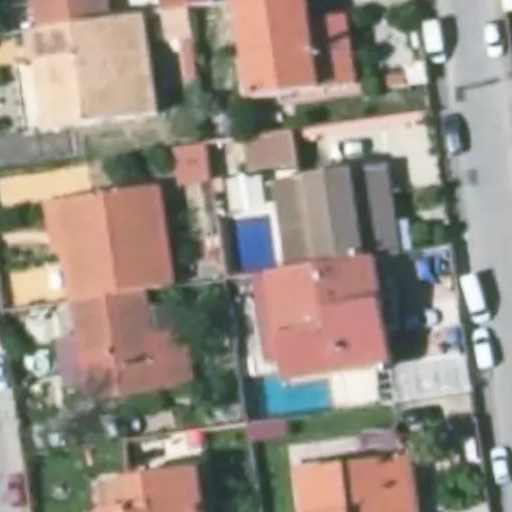pool: (227, 218, 284, 265)
